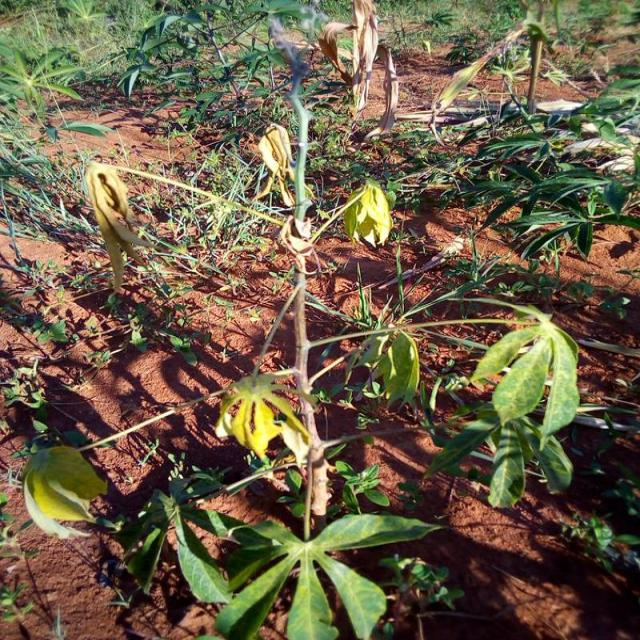cassava leaf: (214, 371, 310, 466), (21, 442, 114, 540), (342, 180, 393, 248)
